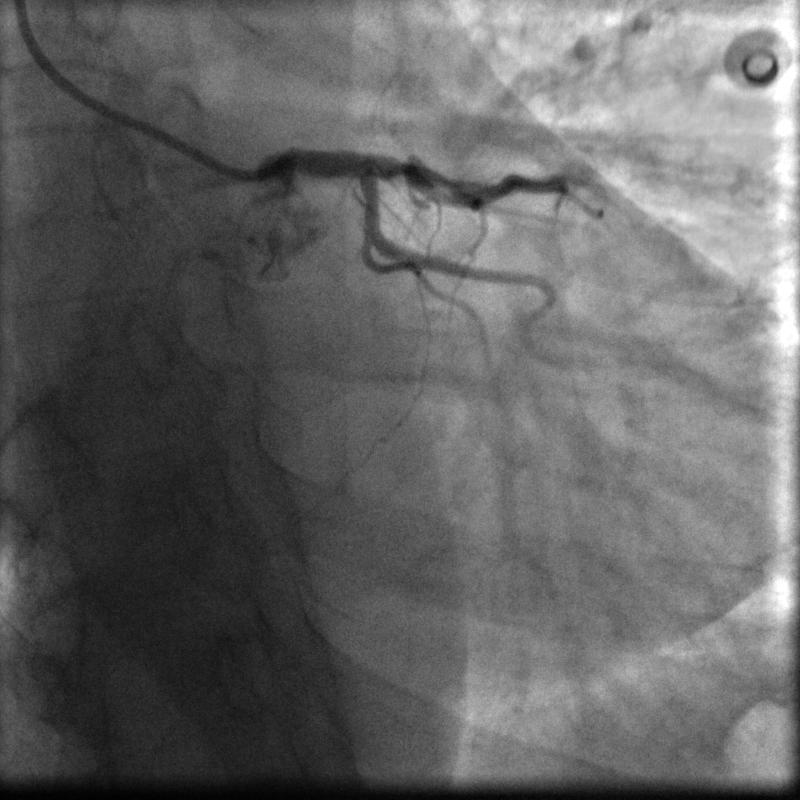Stenosis: (395, 153, 412, 178)
